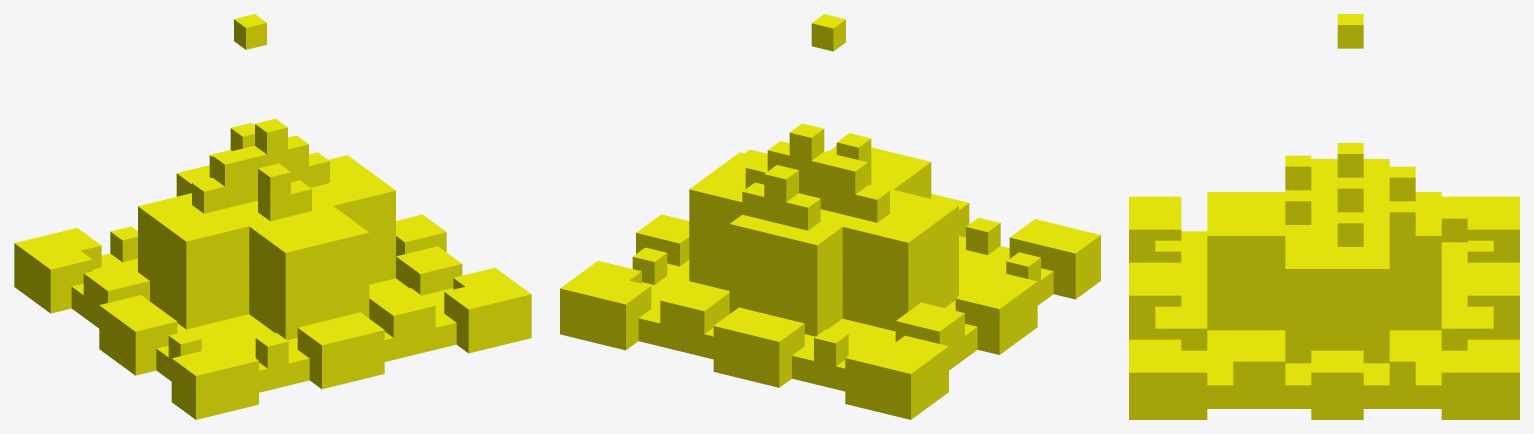
File: voxel-rangers-campfire-frame1.glb
3 renders of one model, left to right at view 1: azimuth 30°, elevation 25°; view 2: azimuth 150°, elevation 25°; view 3: azimuth 270°, elevation 25°, orthographic. The views are drawn at different scales.
Parts seen in each view (by area): view 1: VS_Rangers_Environment_Campfire_003; view 2: VS_Rangers_Environment_Campfire_003; view 3: VS_Rangers_Environment_Campfire_003.
Boxes of the visible parts, box(x1,y1,x2,y2) form: VS_Rangers_Environment_Campfire_003: box(14, 14, 531, 419); VS_Rangers_Environment_Campfire_003: box(560, 14, 1100, 419); VS_Rangers_Environment_Campfire_003: box(1129, 14, 1519, 419).
Size of the model in its own units: 1.6 by 1.3 by 1.5.
